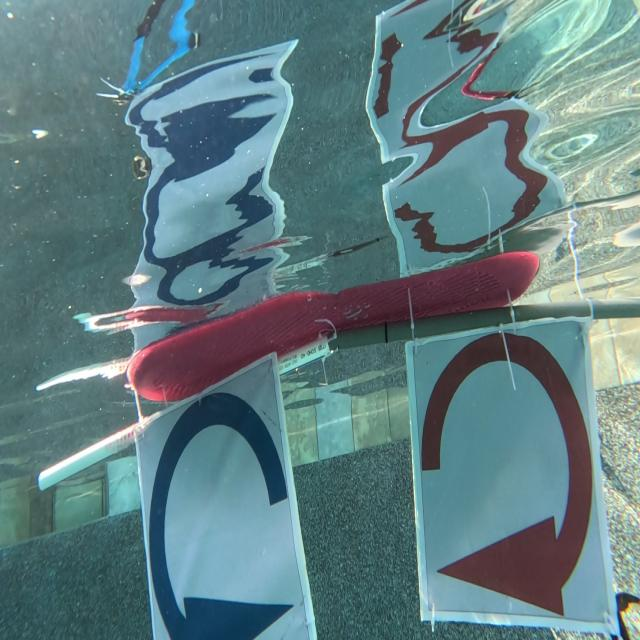blue_side: (144, 362, 302, 607)
red_side: (419, 339, 603, 622)
